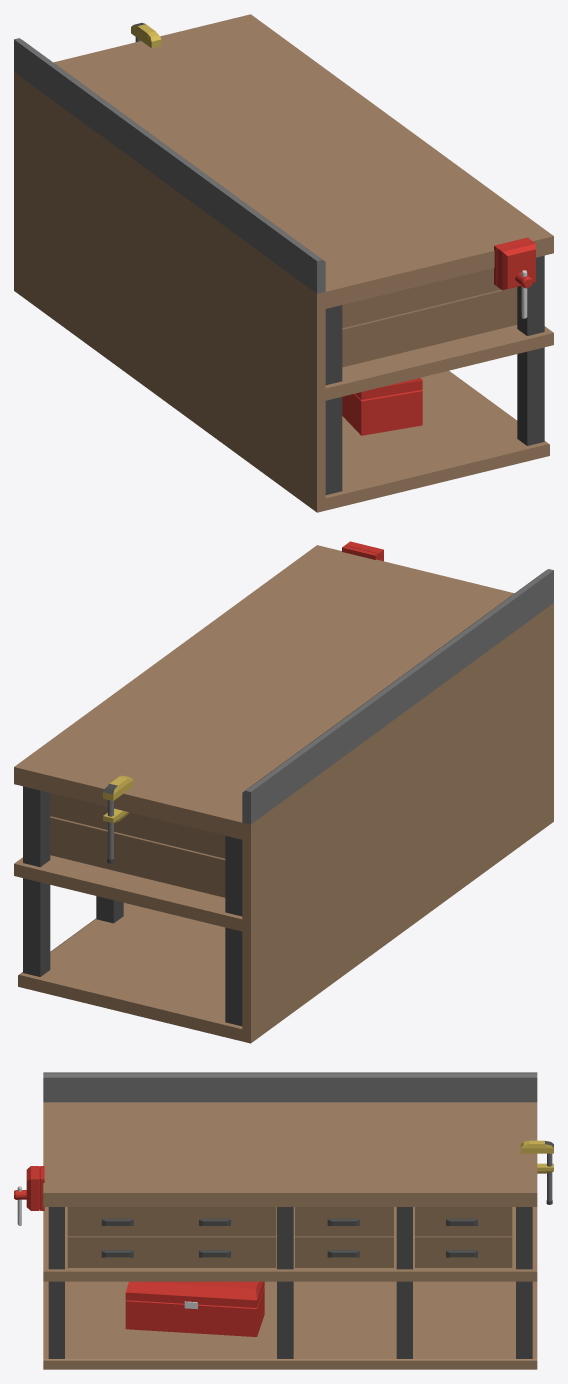
The model's file is workbench.glb.
3 renders of one model, top to bottom at view 1: azimuth 30°, elevation 25°; view 2: azimuth 150°, elevation 25°; view 3: azimuth 270°, elevation 25°, orthographic. The views are drawn at different scales.
Visible parts, largest first — view 1: Workbench; view 2: Workbench; view 3: Workbench.
Part boxes in pixels (box(x1,y1,x2,y2)): Workbench: box(14, 14, 553, 512); Workbench: box(14, 541, 553, 1043); Workbench: box(14, 1072, 553, 1369).
Bounding box in the file's own units: 0.9631 × 0.9658 × 2.31.
